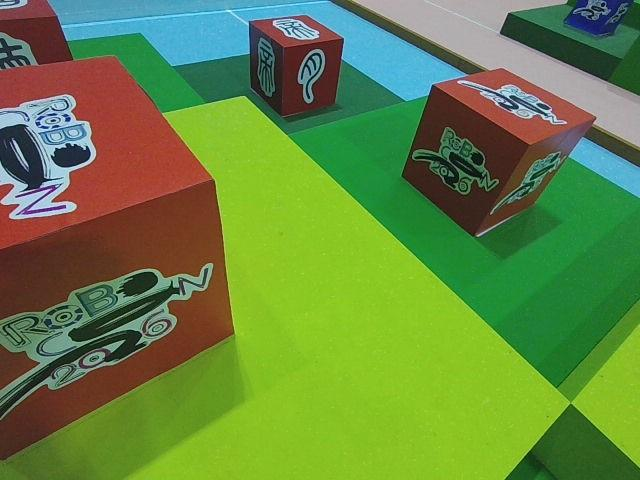R1: (0, 52, 234, 461), (400, 64, 596, 239)
R2 Fake: (249, 11, 345, 117)
